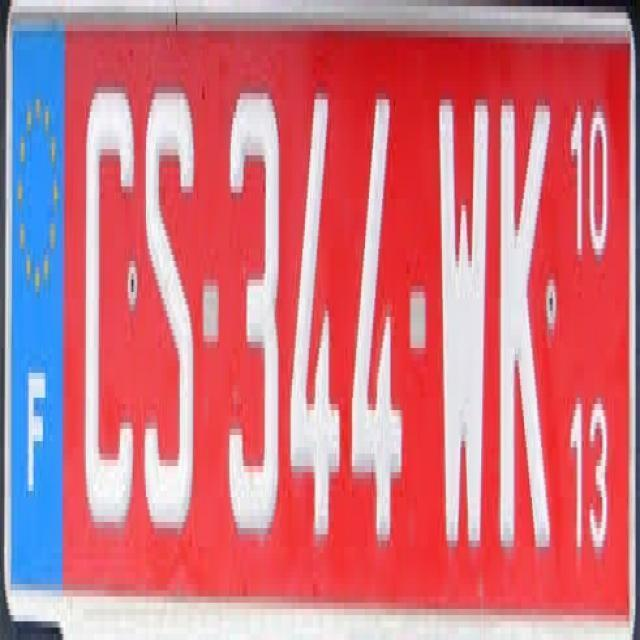LicensePlate: (4, 9, 636, 624)
